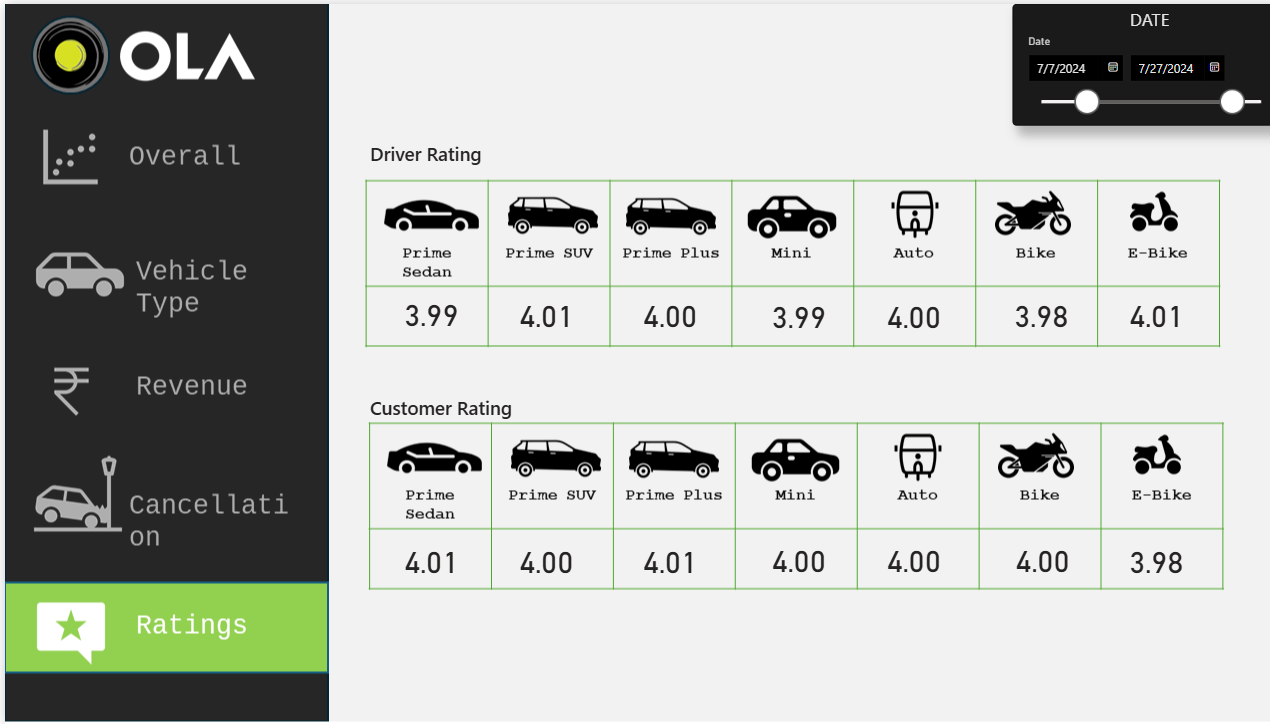

What the dashboard file says about the page in this screenshot:
{"tool":"powerbi","page":{"name":"Ratings","canvas":[1280,720],"ordinal":4},"visuals":[{"type":"actionButton","box":[0,445,322.5,110],"z":0},{"type":"actionButton","box":[0,338.8,322.5,93.8],"z":1000},{"type":"actionButton","box":[0,232.5,322.5,93.8],"z":2000},{"type":"actionButton","box":[0,105,322.5,92.5],"z":3000},{"type":"card","fields":{"Values":["Avg(July.Driver_Ratings)"]},"box":[368.6,280,115.7,58.6],"z":3001},{"type":"card","fields":{"Values":["Avg(July.Driver_Ratings)"]},"box":[484.3,281.4,115.7,58.6],"z":3002},{"type":"card","fields":{"Values":["Avg(July.Driver_Ratings)"]},"box":[607.1,281.4,115.7,58.6],"z":3003},{"type":"card","fields":{"Values":["Avg(July.Driver_Ratings)"]},"box":[735.7,282.9,115.7,58.6],"z":3004},{"type":"card","fields":{"Values":["Avg(July.Driver_Ratings)"]},"box":[851.4,282.9,115.7,58.6],"z":3005},{"type":"card","fields":{"Values":["Avg(July.Driver_Ratings)"]},"box":[978.6,281.4,115.7,58.6],"z":3006},{"type":"card","fields":{"Values":["Avg(July.Driver_Ratings)"]},"box":[1094.3,281.4,115.7,58.6],"z":3007},{"type":"textbox","box":[360,132.9,134.3,37.1],"z":3008},{"type":"textbox","box":[360,385.7,162.9,41.4],"z":3009},{"type":"card","fields":{"Values":["Avg(July.Customer_Rating)"]},"box":[368.6,527.1,115.7,58.6],"z":3010},{"type":"card","fields":{"Values":["Avg(July.Customer_Rating)"]},"box":[484.3,527.1,115.7,58.6],"z":3011},{"type":"card","fields":{"Values":["Avg(July.Customer_Rating)"]},"box":[607.1,527.1,115.7,58.6],"z":3012},{"type":"card","fields":{"Values":["Avg(July.Customer_Rating)"]},"box":[735.7,525.7,115.7,58.6],"z":3013},{"type":"card","fields":{"Values":["Avg(July.Customer_Rating)"]},"box":[851.4,525.7,115.7,58.6],"z":3014},{"type":"card","fields":{"Values":["Avg(July.Customer_Rating)"]},"box":[980,525.7,115.7,58.6],"z":3015},{"type":"card","fields":{"Values":["Avg(July.Customer_Rating)"]},"box":[1094.3,527.1,115.7,58.6],"z":3016},{"type":"slicer","title":"DATE","fields":{"Values":["July.Date"]},"box":[1007.1,0,272.9,121.4],"z":3017}]}

Visuals, with their boxes in screenshot pixels (x1, y1, x2, y2), scaled from the page's 1280x720 canvas onto the 1270x724 screenshot:
actionButton: 0:447:320:558
actionButton: 0:341:320:435
actionButton: 0:234:320:328
actionButton: 0:106:320:199
card - Avg(July.Driver_Ratings): 366:282:481:340
card - Avg(July.Driver_Ratings): 481:283:595:342
card - Avg(July.Driver_Ratings): 602:283:717:342
card - Avg(July.Driver_Ratings): 730:284:845:343
card - Avg(July.Driver_Ratings): 845:284:960:343
card - Avg(July.Driver_Ratings): 971:283:1086:342
card - Avg(July.Driver_Ratings): 1086:283:1201:342
textbox: 357:134:490:171
textbox: 357:388:519:429
card - Avg(July.Customer_Rating): 366:530:481:589
card - Avg(July.Customer_Rating): 481:530:595:589
card - Avg(July.Customer_Rating): 602:530:717:589
card - Avg(July.Customer_Rating): 730:529:845:588
card - Avg(July.Customer_Rating): 845:529:960:588
card - Avg(July.Customer_Rating): 972:529:1087:588
card - Avg(July.Customer_Rating): 1086:530:1201:589
"DATE" slicer: 999:0:1269:122
